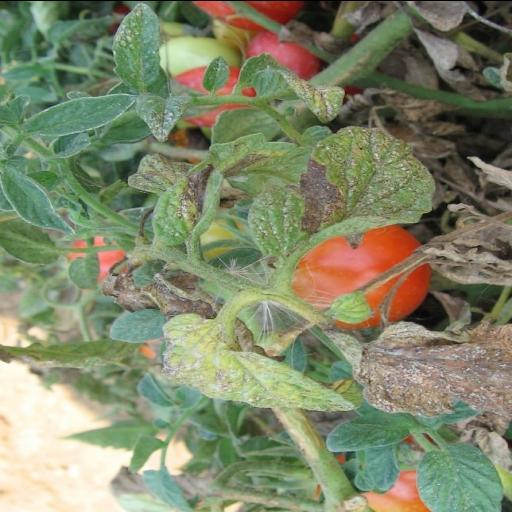disease_tomato: (246, 123, 438, 261), (162, 312, 356, 410), (112, 0, 162, 88)
